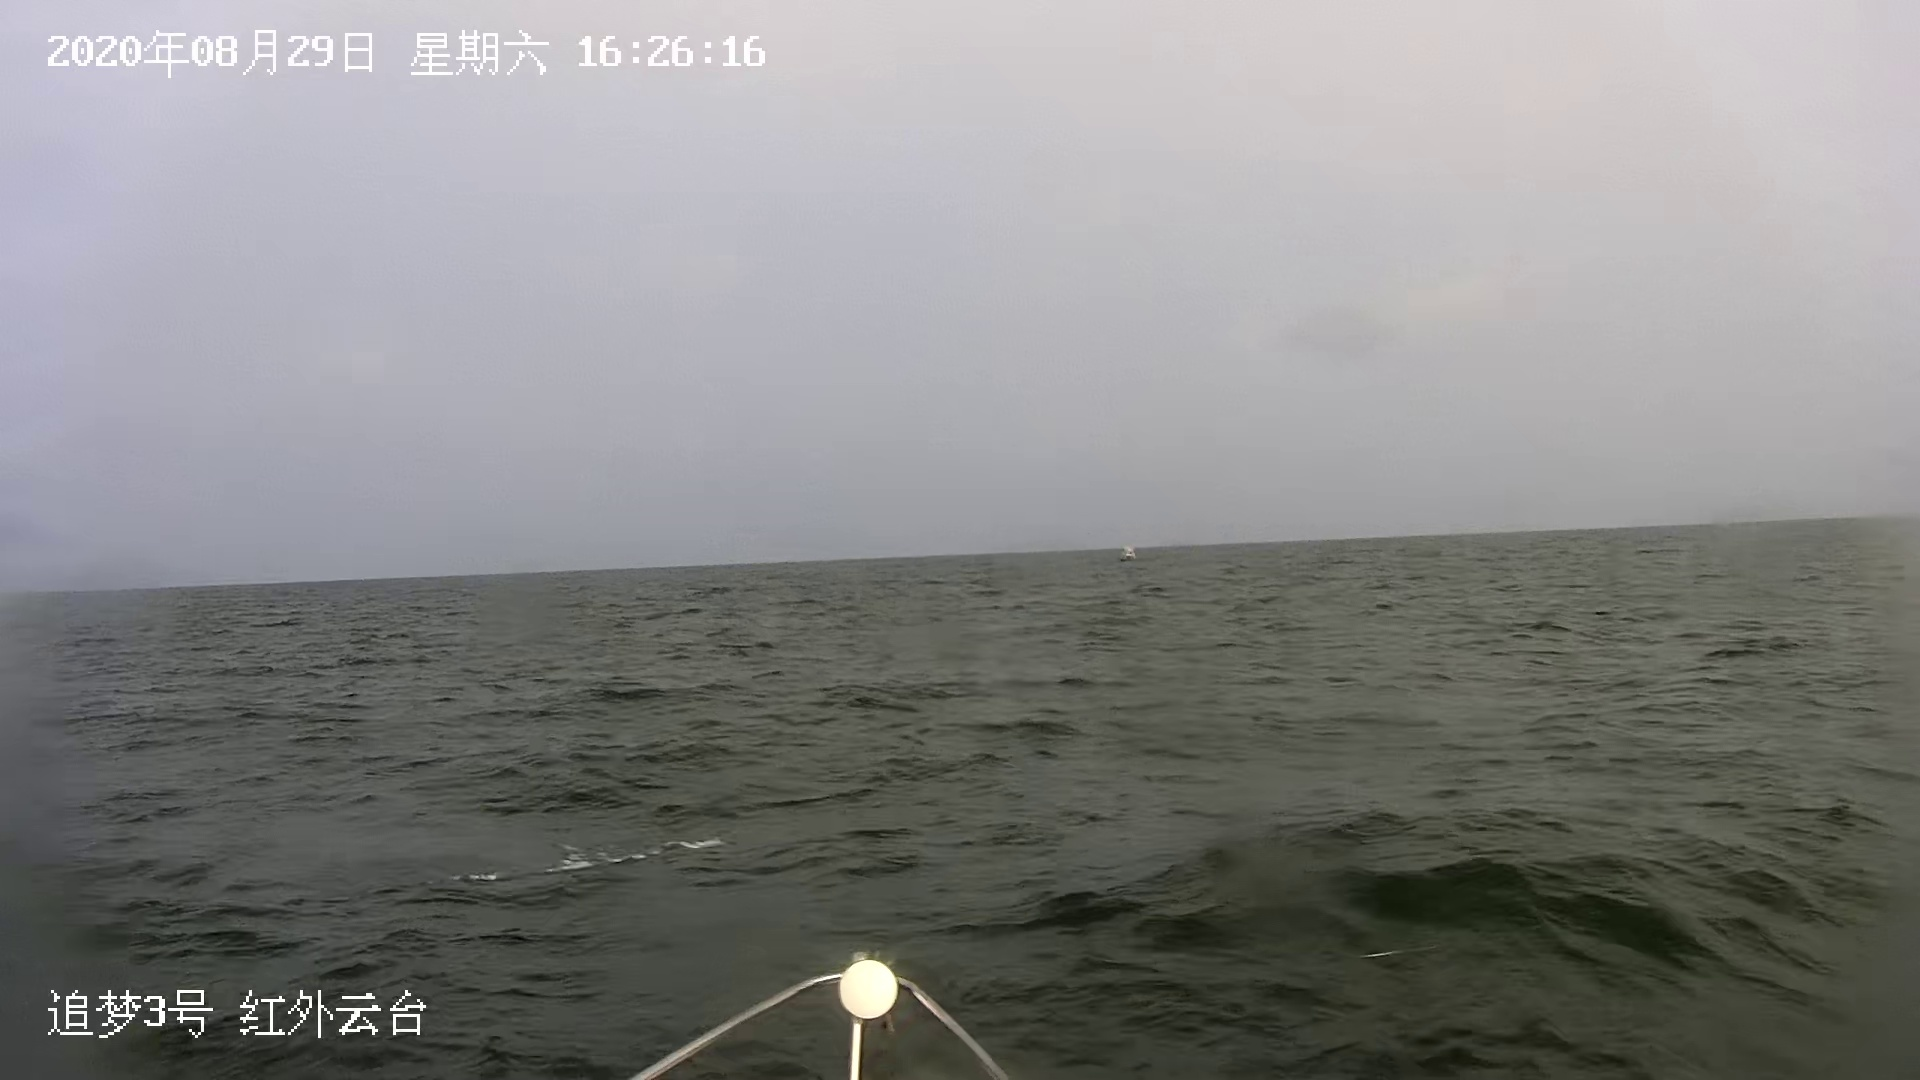barrier: (1116, 547, 1138, 564)
this: (636, 963, 1015, 1079)
